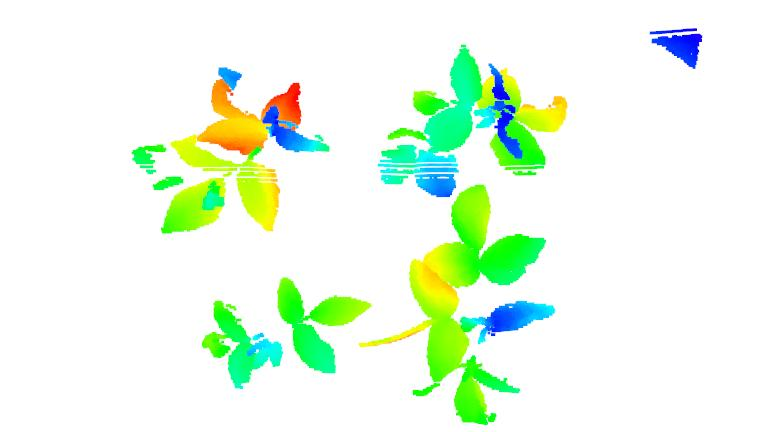mungbean: (395, 186, 556, 427), (149, 65, 330, 237), (372, 41, 566, 195), (196, 274, 375, 392)
